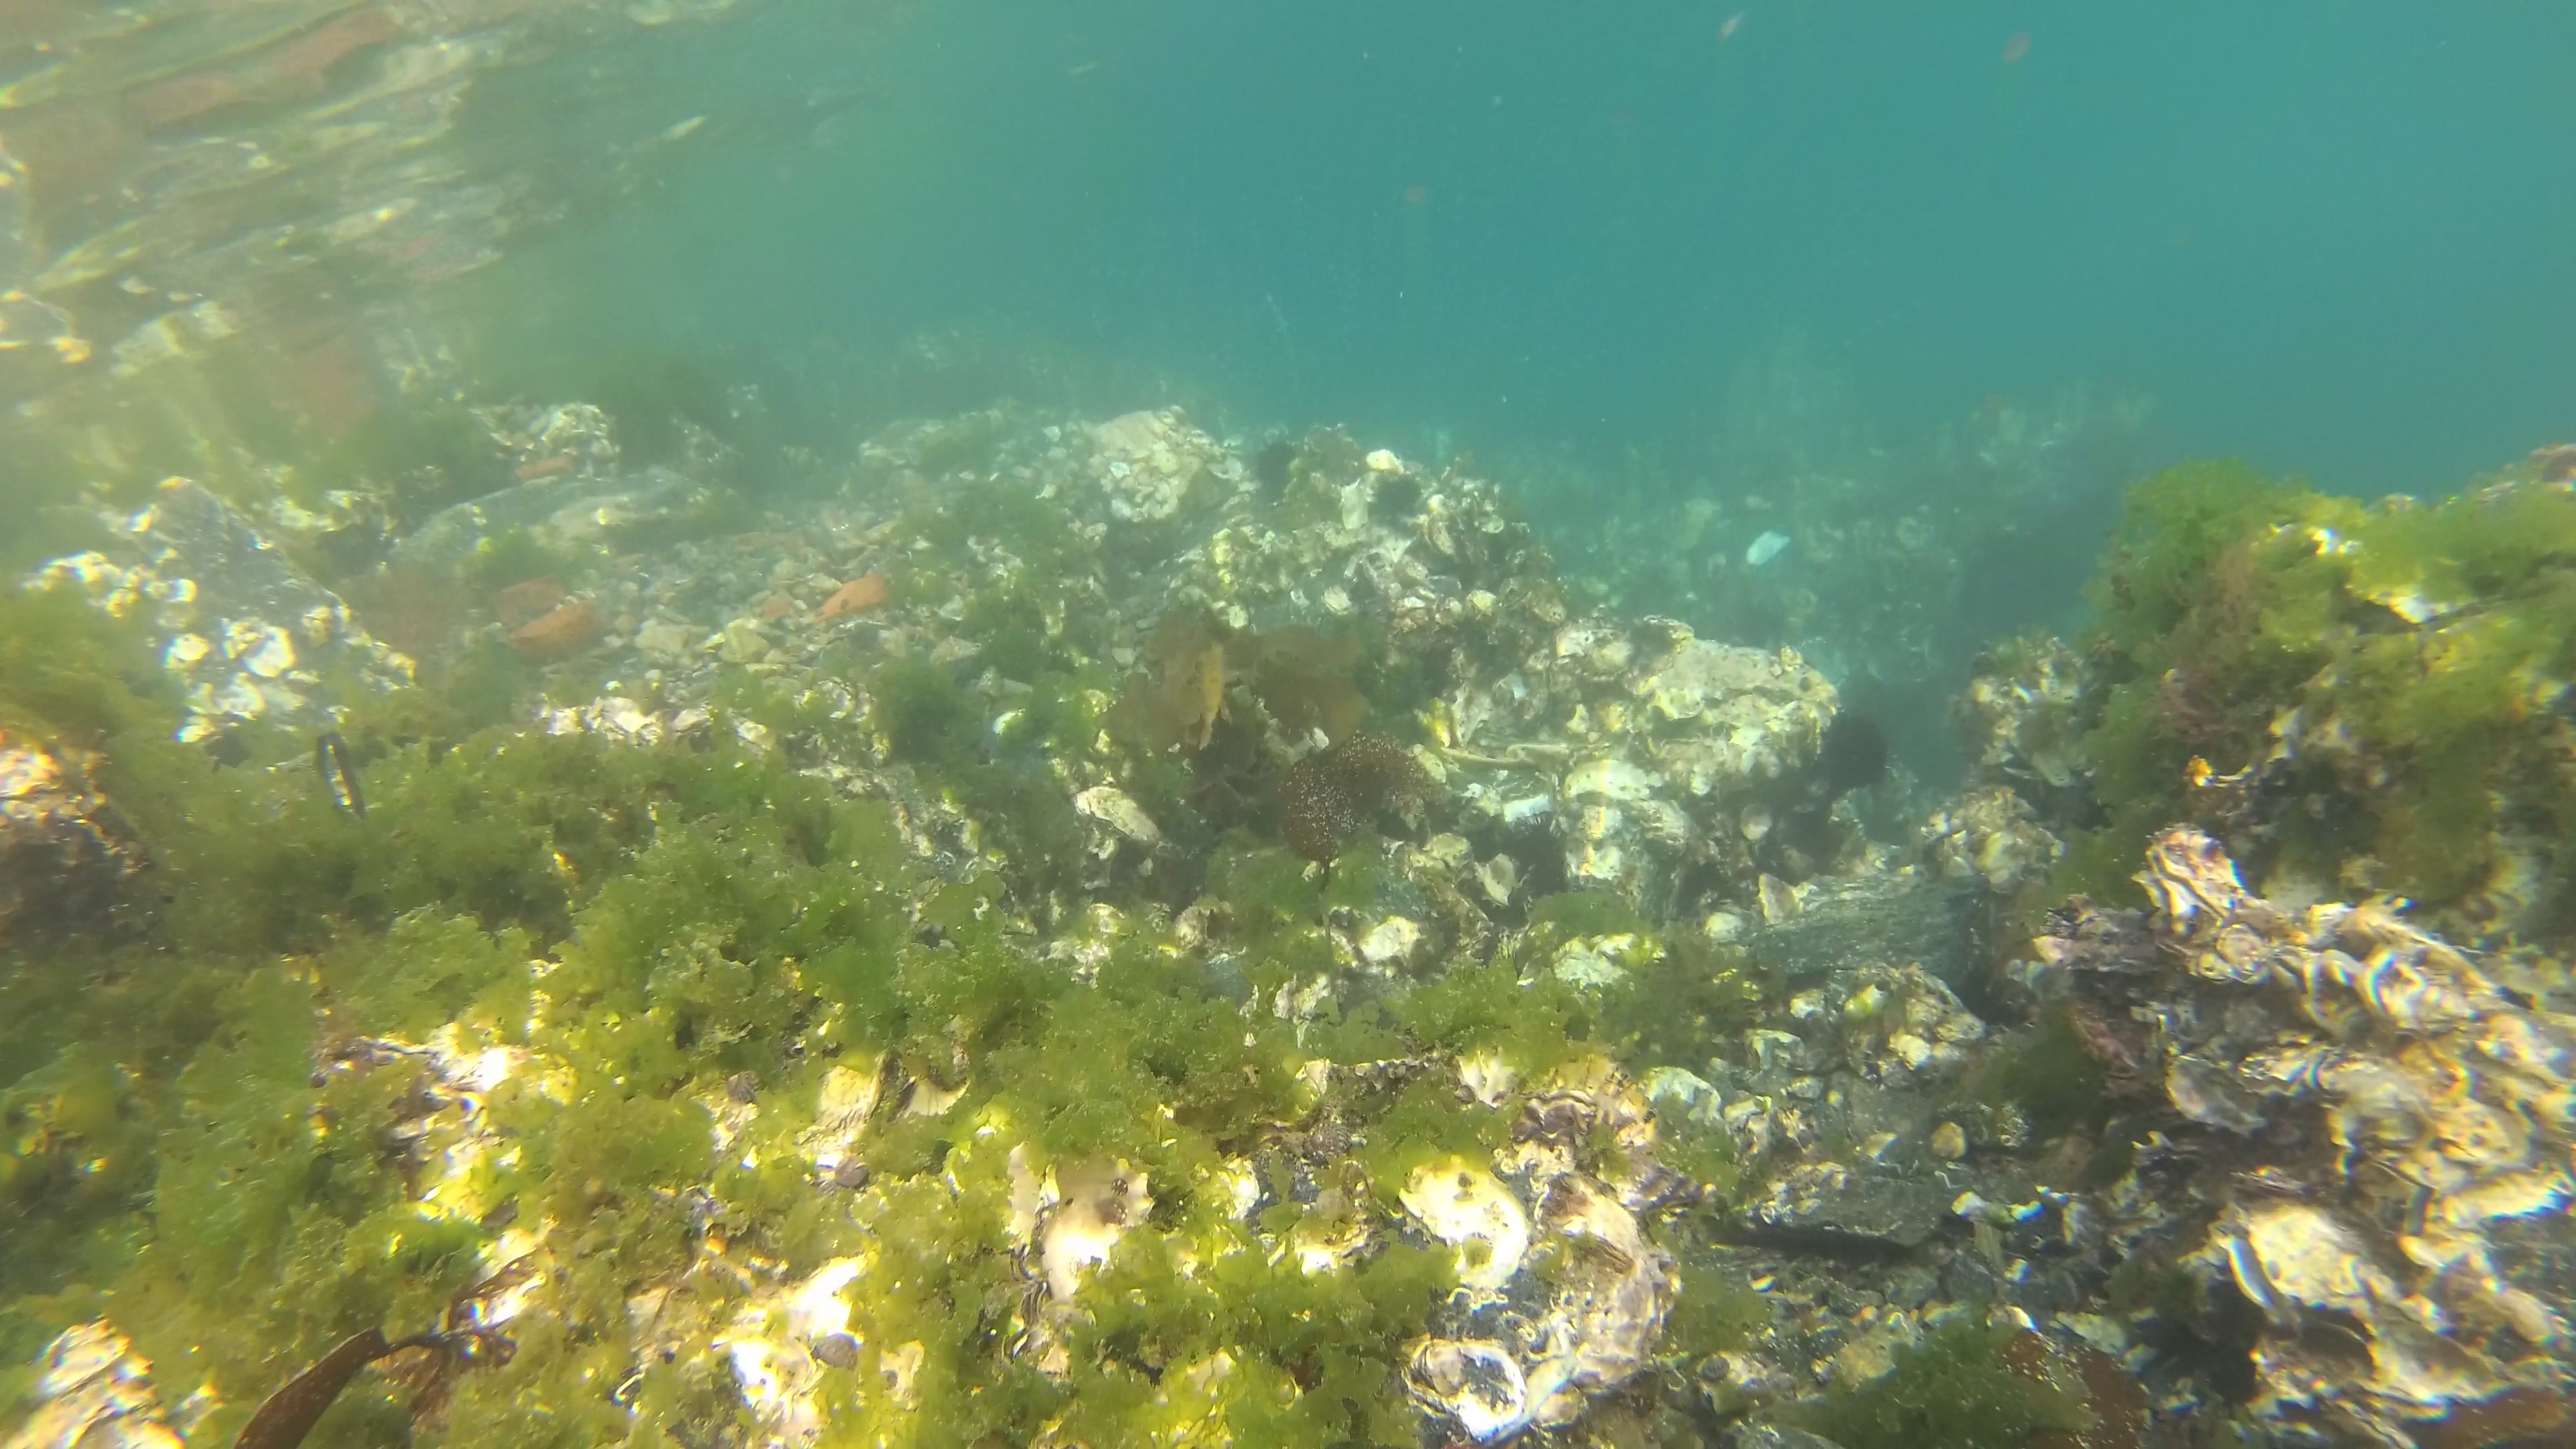echinus: (1812, 704, 1890, 800), (1713, 587, 1790, 683), (1502, 814, 1573, 902), (1247, 437, 1302, 497), (1366, 469, 1426, 522)
